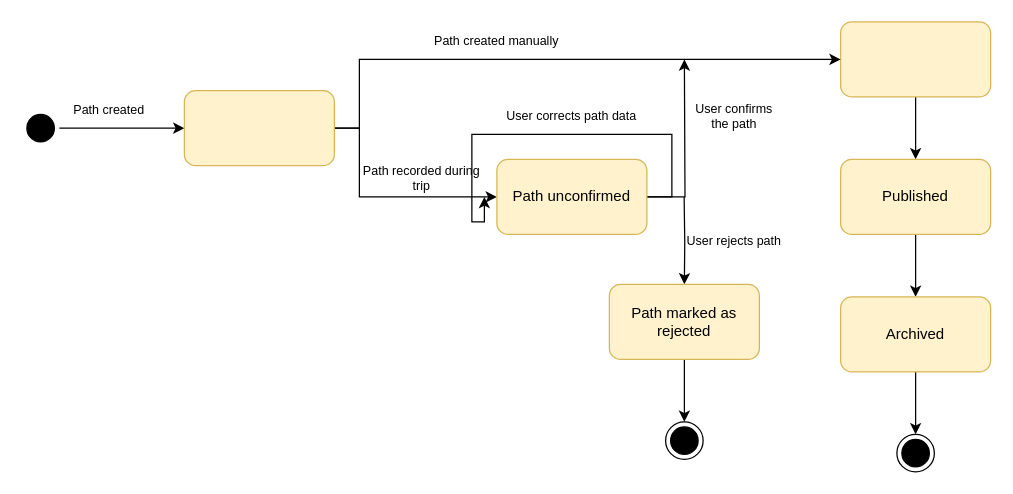
The diagram is 1013 pixels wide and 494 high, and some of its shapes have lost their labels. Here are the shapes that lost their labels. From the top down, the box of each, then its label:
(839, 21, 991, 97): Confirmed
(183, 89, 334, 166): Path save in history
